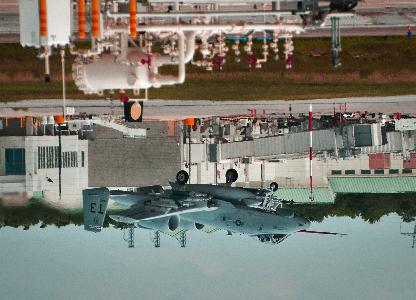A10: (81, 169, 346, 245)
